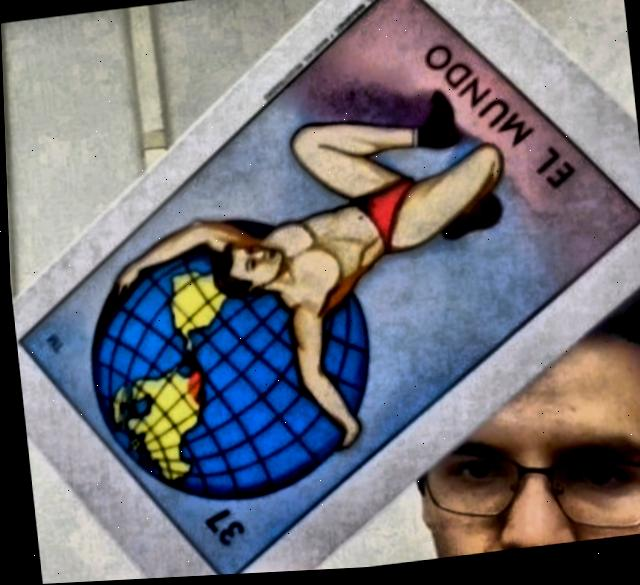El Mundo: (19, 0, 639, 577)
